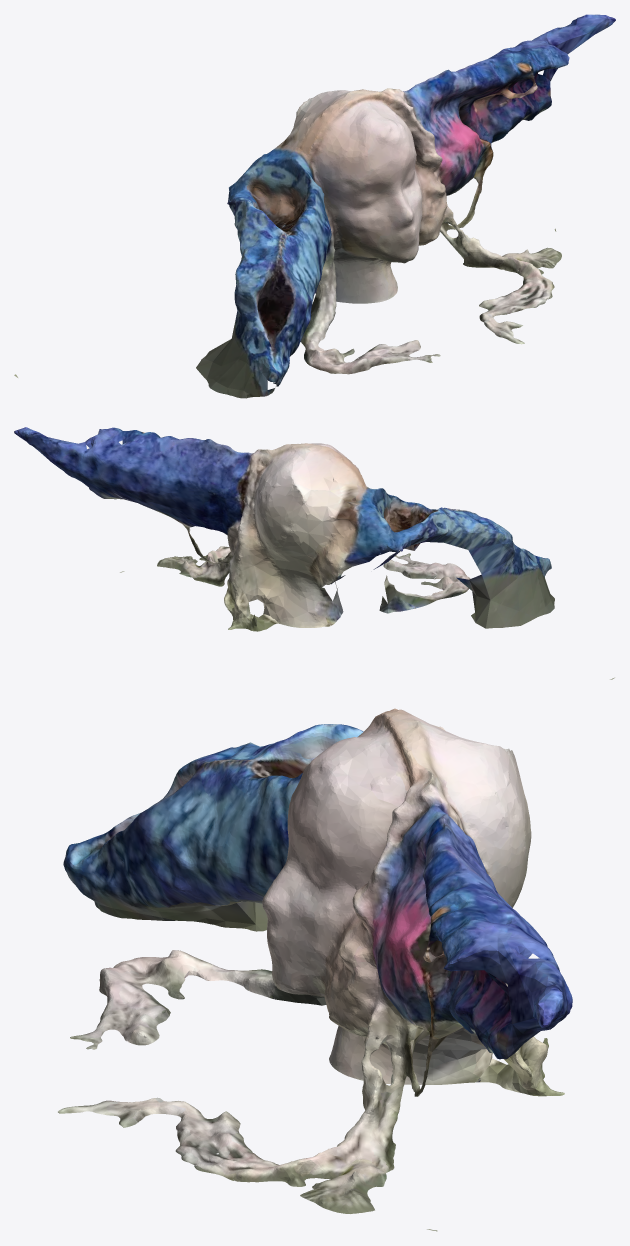
The model's file is Myah_Goris.glb.
The picture shows the model from 3 angles, top to bottom: view 1: azimuth 30°, elevation 25°; view 2: azimuth 150°, elevation 25°; view 3: azimuth 270°, elevation 25°; orthographic projection. The views are drawn at different scales.
Parts seen in each view (by area): view 1: mesh.004; view 2: mesh.004; view 3: mesh.004.
Boxes of the visible parts, x1,y1,x2,y2 form: mesh.004: (14, 14, 615, 398); mesh.004: (14, 427, 614, 679); mesh.004: (58, 708, 572, 1231).
Size of the model in its own units: 9.64 by 2.74 by 3.85.
1 material, 1 textured.
